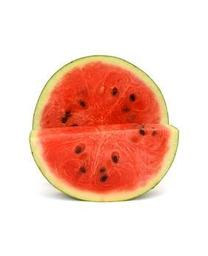watermelon: (29, 53, 180, 199)
